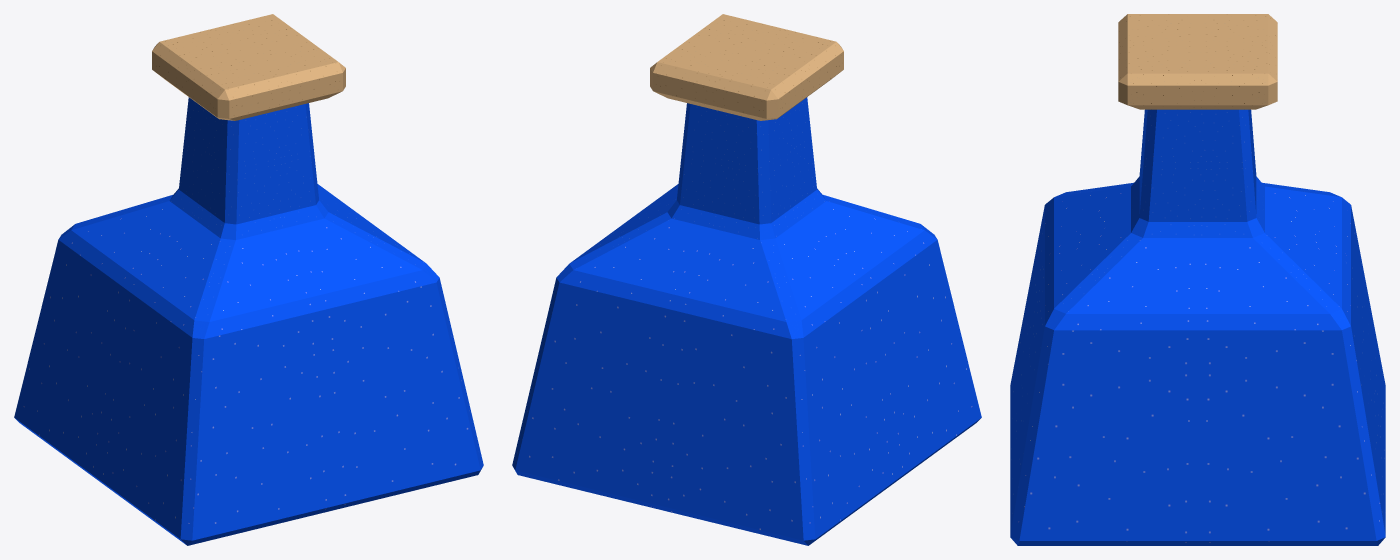
The model's file is bluePotion1.fbx.
The picture shows the model from 3 angles, left to right: view 1: azimuth 30°, elevation 25°; view 2: azimuth 150°, elevation 25°; view 3: azimuth 270°, elevation 25°; orthographic projection. The views are drawn at different scales.
Visible parts, largest first — view 1: Cube; view 2: Cube; view 3: Cube.
Part boxes in pixels (x1,y1,x2,y2): Cube: [14, 14, 483, 545]; Cube: [512, 14, 981, 545]; Cube: [1010, 14, 1385, 545].
Bounding box in the file's own units: 198 × 248 × 198.
